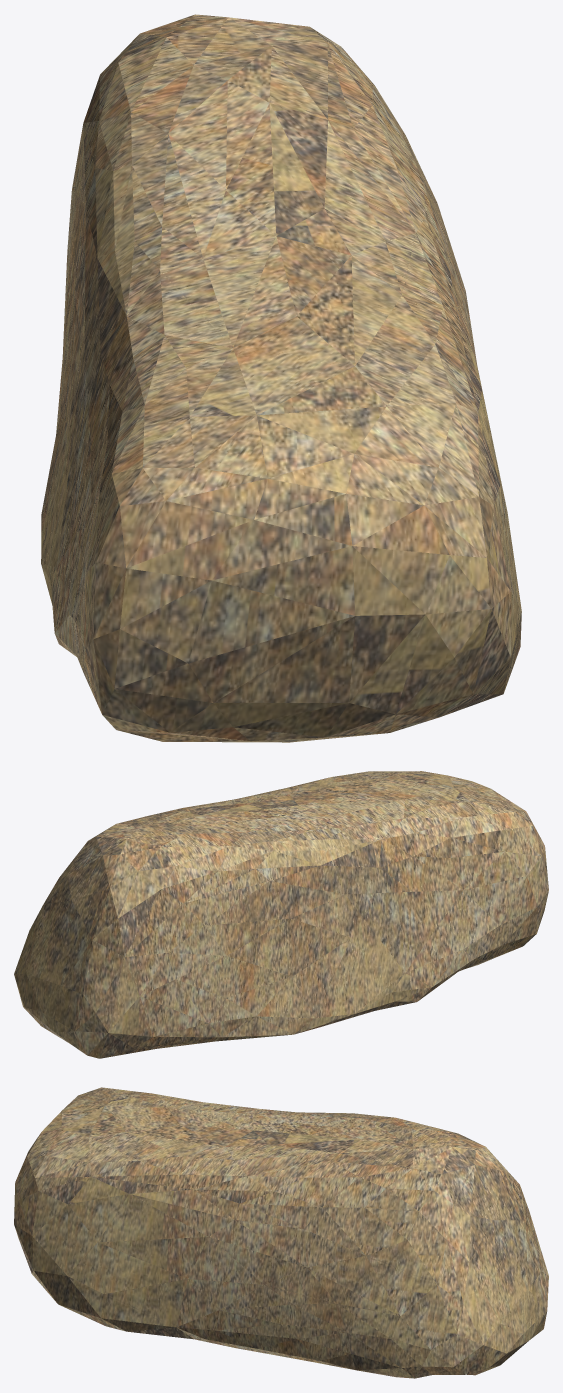
The model's file is Intresto_rock_for_landscape_03.dae.
3 views of the same model, one above another, from view 1: azimuth 30°, elevation 25°; view 2: azimuth 150°, elevation 25°; view 3: azimuth 270°, elevation 25° (orthographic). The views are drawn at different scales.
Parts seen in each view (by area): view 1: group_0; view 2: group_0; view 3: group_0.
Part boxes in pixels (x1,y1,x2,y2): group_0: (41,14,521,742); group_0: (14,771,548,1058); group_0: (14,1087,548,1378).
Bounding box in the file's own units: 12.86 × 16.92 × 6.96.
